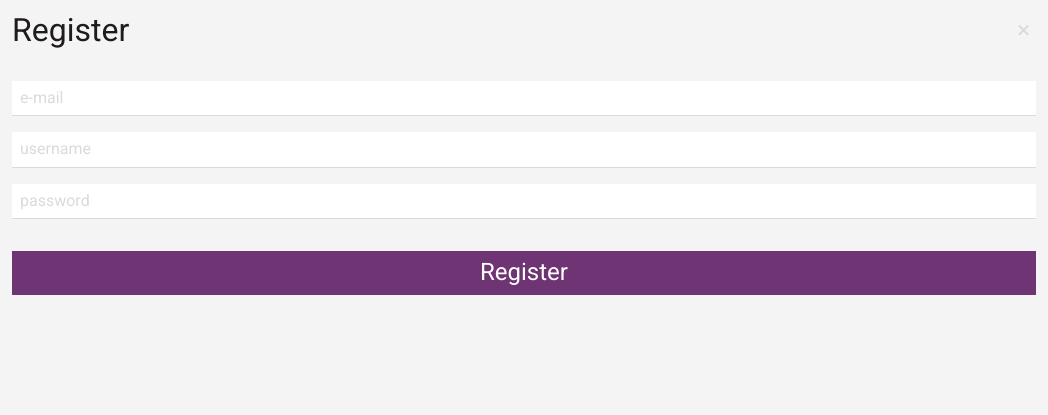
Test: <RegisterForm/> › Should display error if email is invalid
The width and height of the screenshot is (1048, 415).
Type "test" into the field with placeholder "e-mail" at (524, 98), box [12,81,1036,116]
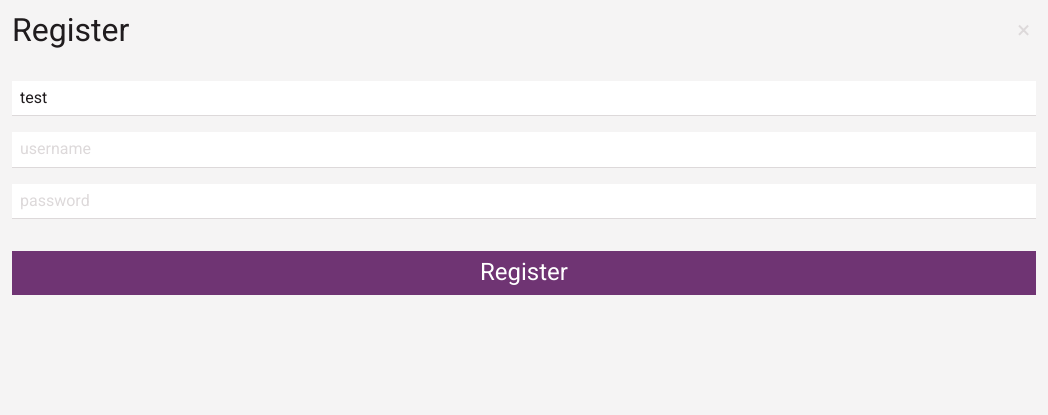
Click the button with test id "submitButton" at (524, 273), box [12,251,1036,295]
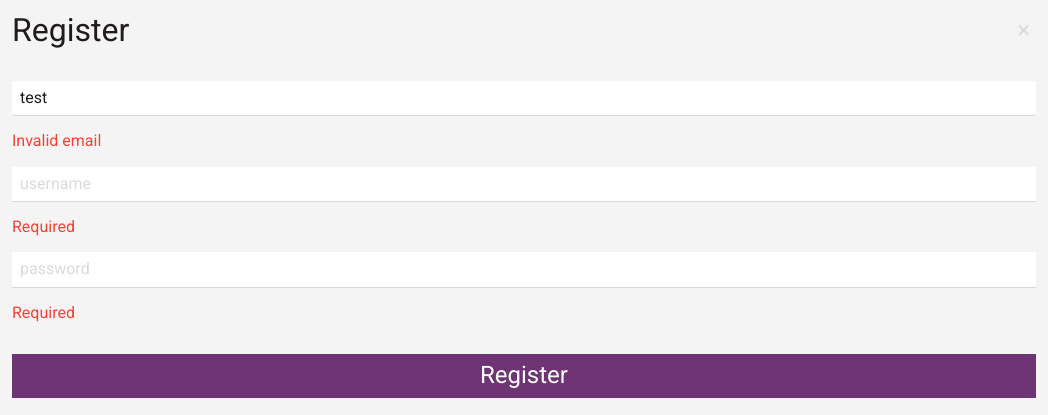
Expected: the text "Required" is shown 2 times, [12,217,75,236]; [12,303,75,322]
Expected: the text "Invalid email" is shown, [12,131,101,150]
